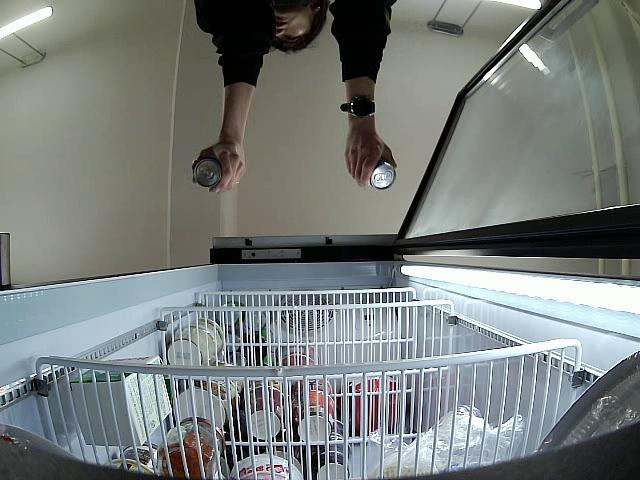00_hand: (189, 141, 247, 195), (343, 135, 397, 186)
15_letsbe: (192, 155, 223, 190), (371, 161, 397, 193)
